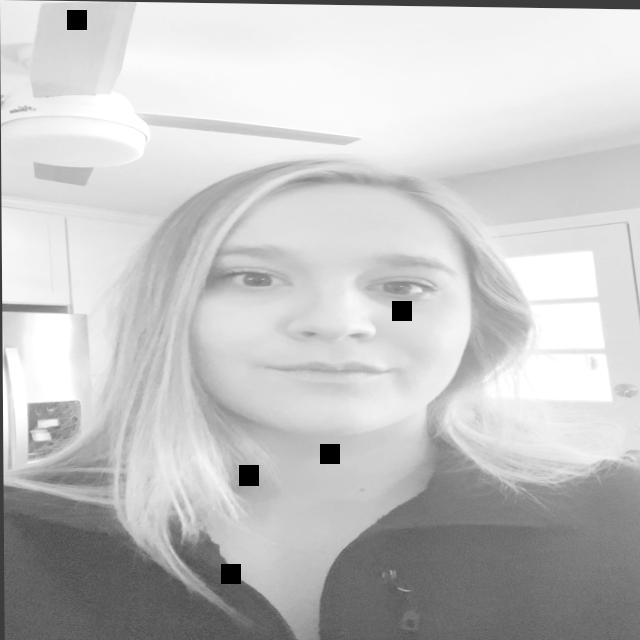NO-Mask: (136, 169, 493, 469)
